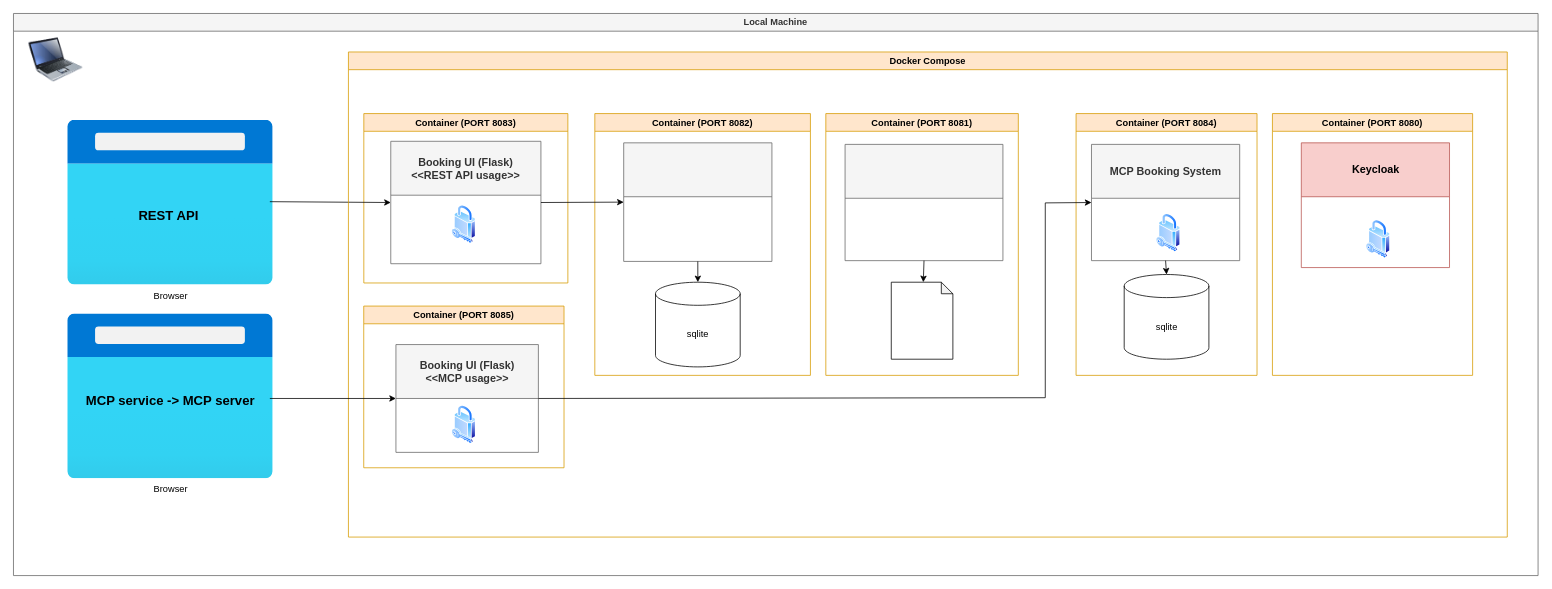
Image size: 1552x589. Some labels were removed from this diagram. Here are the shapes that lost their labels. From the top down, the centre of each, then its label:
the point at 697,201: Booking System REST
the point at 923,202: HR Database REST
the point at 922,320: Markdown file
